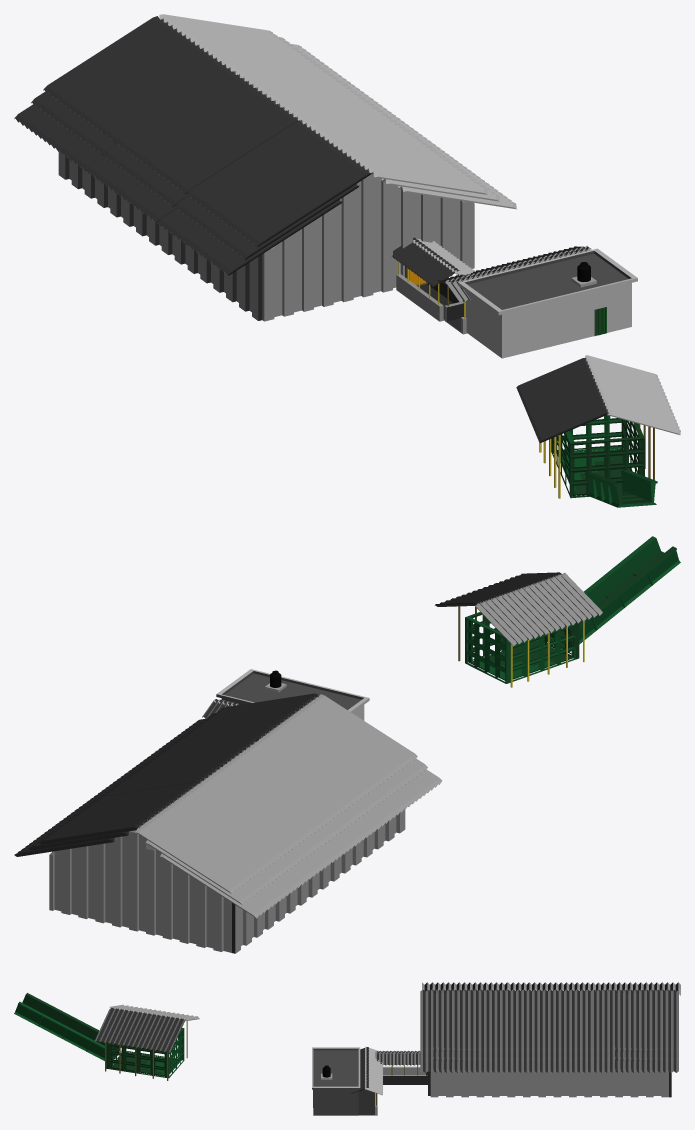
The model's file is Cuarentenanobase.glb.
3 views of the same model, one above another, from view 1: azimuth 30°, elevation 25°; view 2: azimuth 150°, elevation 25°; view 3: azimuth 270°, elevation 25° (orthographic). The views are drawn at different scales.
Parts seen in each view (by area): view 1: Cube, Cube.003, Plane.015, Plane.012, Plane.009, Plane, Plane.003, Plane.006, Plane.019, Plane.020, Plane.026, Plane.017 (+12 smaller); view 2: Cube, Plane.012, Plane.009, Plane.015, Plane.019, Plane.024, Plane.006, Plane.003, Plane, Cube.003, Plane.021, Plane.011 (+9 smaller); view 3: Cube, Plane.003, Plane.006, Plane, Cube.003, Plane.020, Plane.024, Plane.021, Plane.026, Plane.005, Plane.008, Plane.002 (+10 smaller).
Boxes of the visible parts, x1,y1,x2,y2 form: Cube: (58,27,474,321); Cube.003: (458,248,637,358); Plane.015: (186,120,371,247); Plane.012: (115,68,299,194); Plane.009: (43,16,226,142); Plane: (302,119,487,194); Plane.003: (231,67,415,138); Plane.006: (159,14,340,82); Plane.019: (516,358,608,443); Plane.020: (585,355,680,434); Plane.026: (391,237,474,321); Plane.017: (157,200,342,275); Cube: (49,702,405,953); Plane.012: (197,739,356,849); Plane.009: (135,786,292,893); Plane.015: (260,694,417,804); Plane.019: (475,572,602,646); Plane.024: (547,536,680,651); Plane.006: (39,782,197,844); Plane.003: (102,738,257,796); Plane: (164,693,319,751); Cube.003: (216,669,369,720); Plane.021: (468,612,575,682); Plane.011: (160,853,320,918); Cube: (428,989,671,1097); Plane.003: (505,989,593,1051); Plane.006: (591,989,678,1051); Plane: (420,989,505,1051); Cube.003: (312,1047,360,1115); Plane.020: (95,1008,185,1052); Plane.024: (14,993,119,1060); Plane.021: (109,1032,181,1077); Plane.026: (375,1050,427,1084); Plane.005: (505,1059,593,1072); Plane.008: (591,1059,678,1072); Plane.002: (420,1059,505,1072).
Size of the model in its own units: 18.35 by 7.19 by 55.91.
